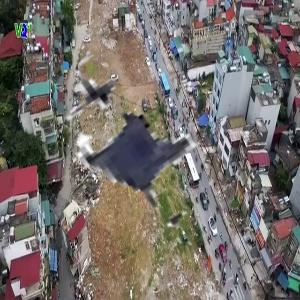drone: (39, 27, 282, 270)
